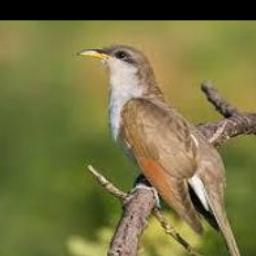Cuckoo: (77, 45, 255, 256)
